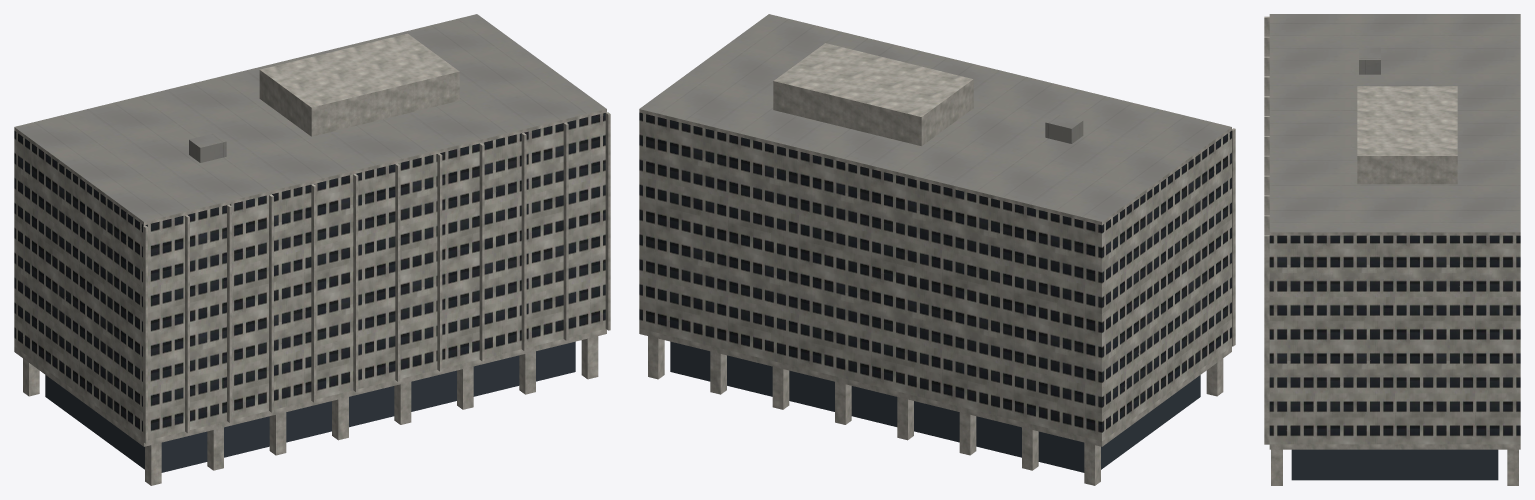
File: dc_brutal.glb
The picture shows the model from 3 angles, left to right: view 1: azimuth 30°, elevation 25°; view 2: azimuth 150°, elevation 25°; view 3: azimuth 270°, elevation 25°; orthographic projection. The views are drawn at different scales.
Parts seen in each view (by area): view 1: dc_brutal; view 2: dc_brutal; view 3: dc_brutal.
Part boxes in pixels (x1=…): dc_brutal: x1=14, y1=14, x2=610, y2=485; dc_brutal: x1=639, y1=14, x2=1235, y2=485; dc_brutal: x1=1264, y1=14, x2=1520, y2=485.
Size of the model in its own units: 70.35 by 42.7 by 34.7.
5 materials, 5 textured.
